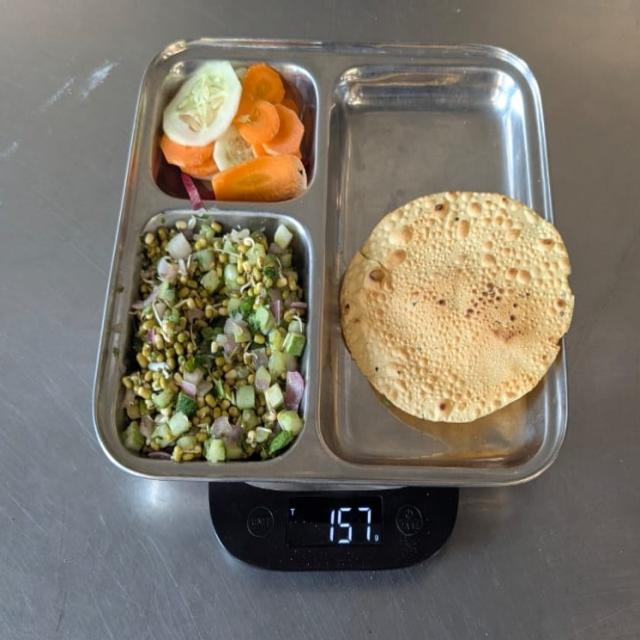Chaat: (120, 217, 308, 463)
Papad: (338, 189, 574, 426)
Salad: (158, 58, 313, 203)
